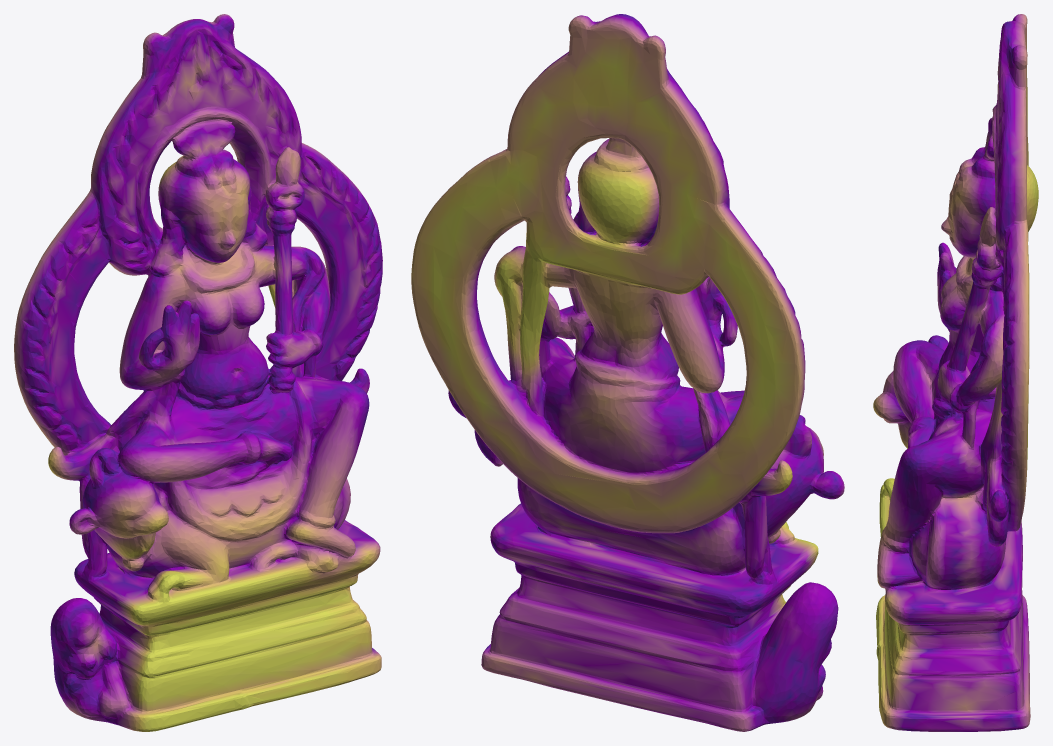
The model's file is iter_13.glb.
The picture shows the model from 3 angles, left to right: view 1: azimuth 30°, elevation 25°; view 2: azimuth 150°, elevation 25°; view 3: azimuth 270°, elevation 25°; orthographic projection. The views are drawn at different scales.
Parts seen in each view (by area): view 1: textured_mesh; view 2: textured_mesh; view 3: textured_mesh.
Boxes of the visible parts, x1,y1,x2,y2 form: textured_mesh: (14,14,382,731); textured_mesh: (411,14,844,731); textured_mesh: (873,14,1038,731).
Bounding box in the file's own units: 1.19 × 1.99 × 0.4616.
